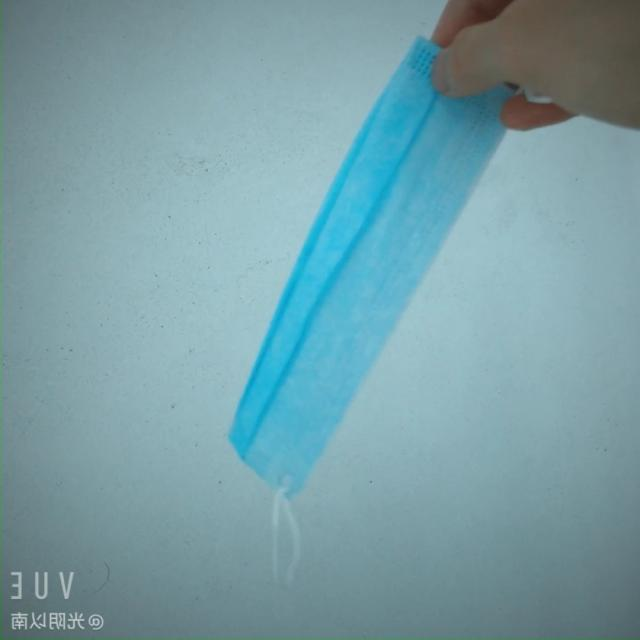face mask: (213, 9, 531, 500)
